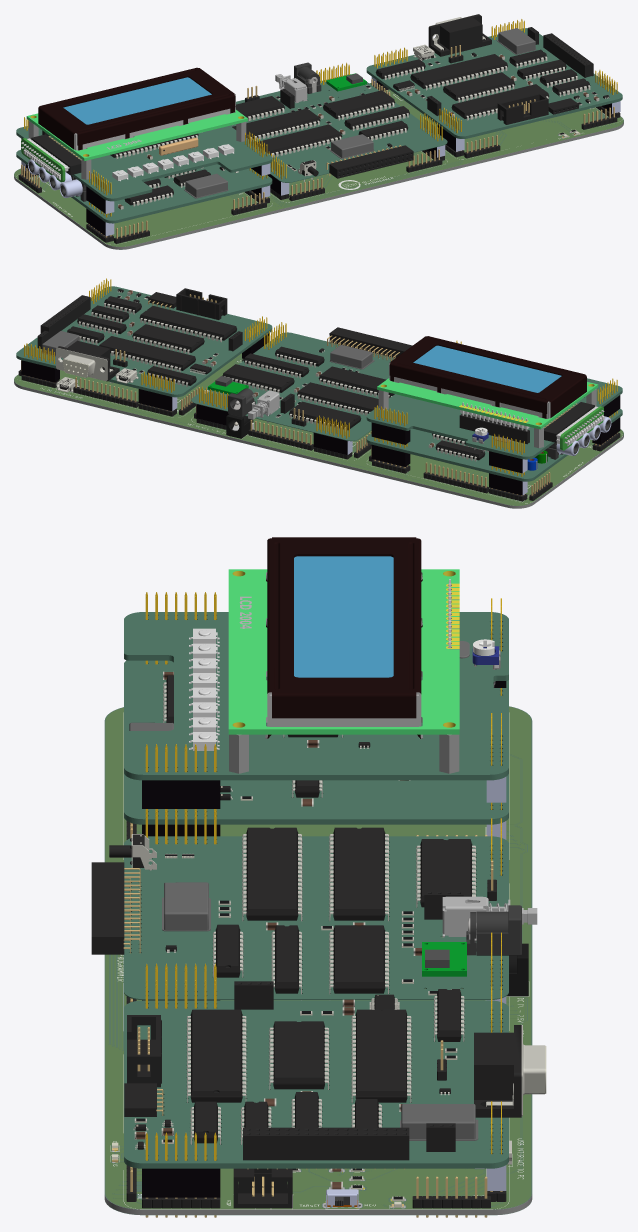
The picture shows the model from 3 angles, top to bottom: view 1: azimuth 30°, elevation 25°; view 2: azimuth 150°, elevation 25°; view 3: azimuth 270°, elevation 25°; orthographic projection. The views are drawn at different scales.
Visible parts, largest first — view 1: IC6, =>[0:1:1:42], =>[0:1:1:17], =>[0:1:1:28], =>[0:1:1:23], =>[0:1:1:41], =>[0:1:1:11] (×2), =>[0:1:1:30] (×2), SW1, =>[0:1:1:5], JC5, J6 (+3 smaller); view 2: IC6, =>[0:1:1:42], =>[0:1:1:17], =>[0:1:1:41], =>[0:1:1:28], =>[0:1:1:23], JC5, =>[0:1:1:30] (×2), =>[0:1:1:11] (×2), SW1, J6, =>[0:1:1:5] (+3 smaller); view 3: =>[0:1:1:42], IC6, =>[0:1:1:17], =>[0:1:1:28], =>[0:1:1:23], =>[0:1:1:41], =>[0:1:1:11] (×2), J6, SW1, =>[0:1:1:30] (×2), =>[0:1:1:5], JC5 (+5 smaller).
Boxes of the visible parts, box(x1,y1,x2,y2) form: IC6: box(18, 14, 620, 243); =>[0:1:1:42]: box(16, 28, 622, 223); =>[0:1:1:17]: box(26, 67, 247, 160); =>[0:1:1:28]: box(14, 83, 623, 249); =>[0:1:1:23]: box(15, 91, 622, 246); =>[0:1:1:41]: box(24, 19, 617, 235); =>[0:1:1:11] (×2): box(28, 28, 536, 198); =>[0:1:1:30] (×2): box(14, 73, 623, 249); SW1: box(21, 62, 620, 236); =>[0:1:1:5]: box(21, 138, 234, 182); JC5: box(21, 45, 617, 238); J6: box(219, 52, 609, 170); IC6: box(18, 290, 620, 501); =>[0:1:1:42]: box(16, 286, 622, 481); =>[0:1:1:17]: box(377, 336, 598, 429); =>[0:1:1:41]: box(21, 278, 620, 495); =>[0:1:1:28]: box(14, 353, 623, 508); =>[0:1:1:23]: box(15, 354, 622, 505); JC5: box(21, 300, 617, 495); =>[0:1:1:30] (×2): box(14, 380, 623, 508); =>[0:1:1:11] (×2): box(42, 331, 596, 452); SW1: box(172, 388, 611, 495); J6: box(117, 288, 324, 374); =>[0:1:1:5]: box(460, 402, 604, 450); =>[0:1:1:42]: box(124, 612, 508, 1168); IC6: box(91, 671, 545, 1208); =>[0:1:1:17]: box(228, 537, 459, 738); =>[0:1:1:28]: box(104, 706, 532, 1215); =>[0:1:1:23]: box(106, 707, 530, 1208); =>[0:1:1:41]: box(142, 592, 506, 1197); =>[0:1:1:11] (×2): box(129, 639, 500, 1140); J6: box(127, 742, 450, 1208); SW1: box(326, 777, 521, 1207); =>[0:1:1:30] (×2): box(104, 942, 532, 1214); =>[0:1:1:5]: box(189, 579, 451, 750); JC5: box(112, 822, 502, 1217).
Size of the model in its own units: 0.3199 by 0.0528 by 0.118.
